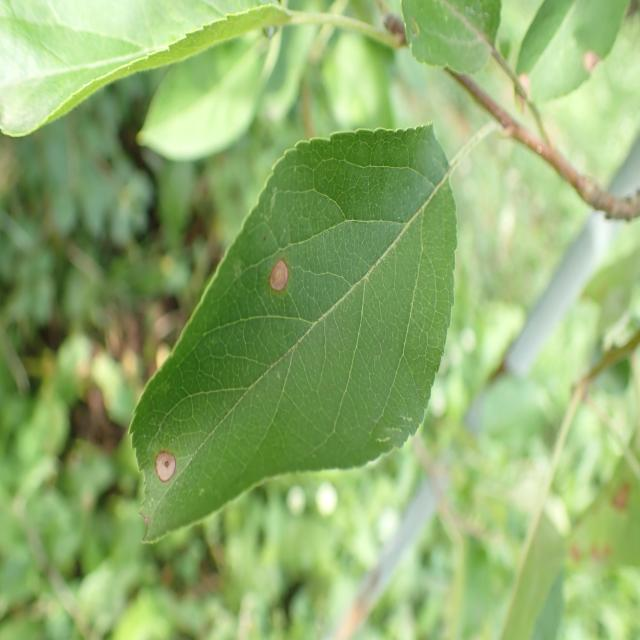Black Rot: (265, 241, 298, 331), (150, 438, 182, 498)
